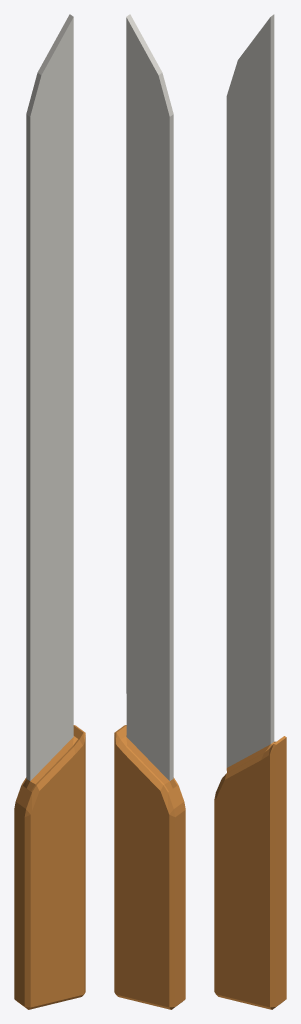
File: sword.fbx
The picture shows the model from 3 angles, left to right: view 1: azimuth 30°, elevation 25°; view 2: azimuth 150°, elevation 25°; view 3: azimuth 330°, elevation 25°; orthographic projection.
Visible parts, largest first — view 1: Cube; view 2: Cube; view 3: Cube.
Part boxes in pixels (x1,y1,x2,y2): Cube: (14, 14, 85, 1009); Cube: (114, 14, 185, 1009); Cube: (214, 14, 286, 1009).
Size of the model in its own units: 28.12 by 430 by 11.89.
